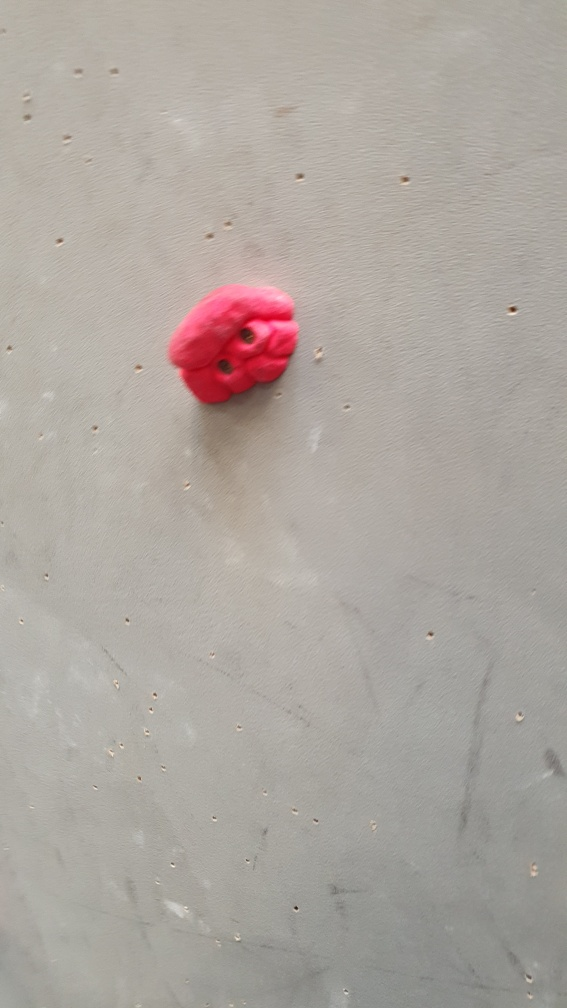Jug: (169, 281, 303, 412)
